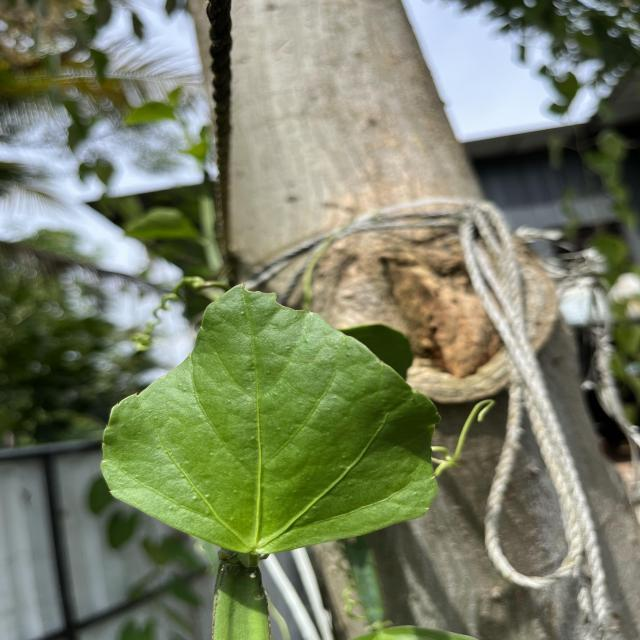Cissus quadrangularis: (94, 277, 444, 558)
